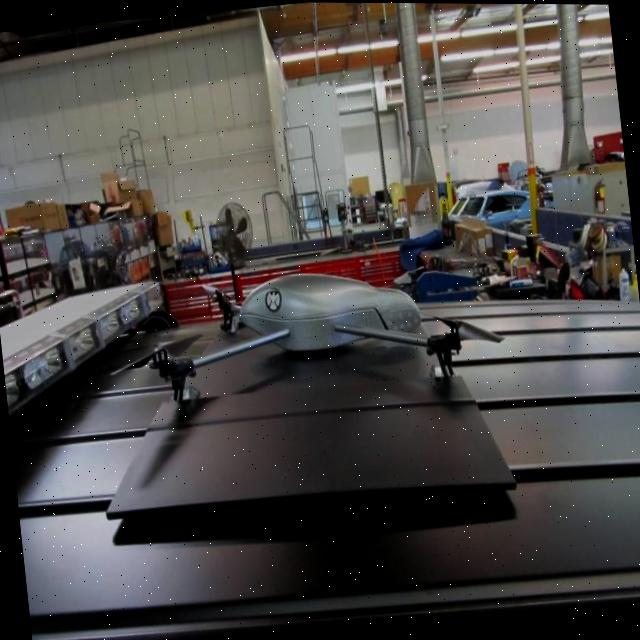drone: (127, 226, 515, 433)
